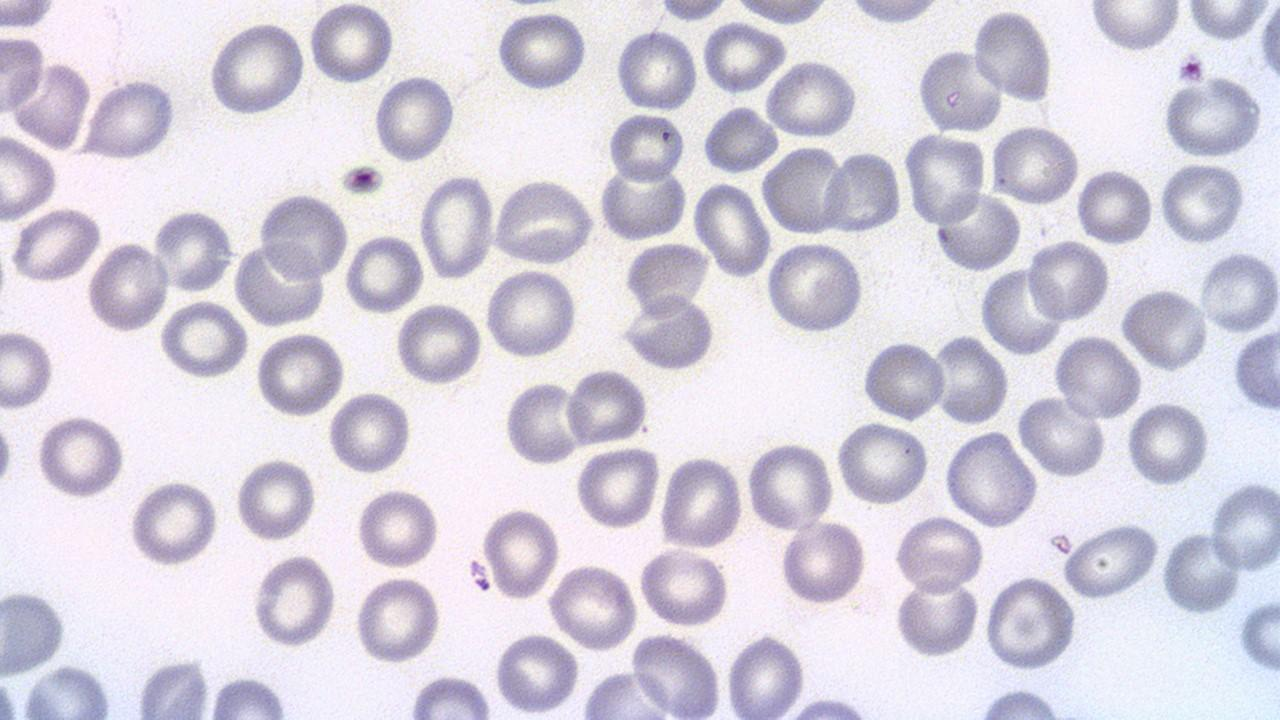Platelets: (341, 163, 386, 199), (0, 414, 17, 497)
RBC: (206, 17, 307, 118), (940, 429, 1040, 528), (764, 238, 864, 334), (1160, 73, 1268, 160), (492, 176, 597, 265), (482, 267, 580, 361), (984, 575, 1078, 672), (232, 236, 328, 329), (417, 172, 497, 281), (256, 192, 351, 282), (126, 478, 219, 569), (253, 329, 347, 419), (351, 574, 442, 666), (760, 142, 848, 237), (250, 552, 337, 648), (972, 5, 1054, 106), (690, 179, 772, 280), (915, 44, 1006, 135), (745, 439, 833, 533), (658, 453, 744, 549), (834, 422, 930, 508), (546, 562, 639, 650), (494, 7, 590, 92), (903, 129, 985, 228), (630, 630, 722, 718), (33, 414, 126, 501), (306, 0, 397, 88), (596, 156, 690, 241), (86, 240, 171, 334), (81, 79, 179, 160), (1060, 523, 1162, 600), (480, 504, 560, 602), (1053, 333, 1143, 420), (618, 293, 717, 372), (978, 264, 1063, 356), (371, 72, 455, 165), (637, 546, 731, 629), (930, 330, 1010, 427), (326, 388, 413, 477), (1118, 286, 1208, 372), (392, 302, 484, 386), (5, 206, 104, 284), (778, 519, 867, 605), (1015, 394, 1107, 477), (891, 574, 979, 660), (1156, 160, 1244, 246), (1125, 400, 1211, 488), (860, 336, 946, 424), (764, 58, 858, 138), (354, 485, 441, 571), (157, 299, 249, 380), (574, 445, 660, 531), (990, 123, 1080, 205), (932, 189, 1020, 272), (724, 630, 807, 718), (1160, 528, 1242, 617), (1026, 238, 1110, 324), (613, 26, 697, 112), (152, 207, 235, 294), (234, 456, 318, 541), (502, 378, 582, 467), (892, 514, 983, 592), (823, 146, 904, 233), (493, 632, 580, 713), (622, 240, 712, 318), (564, 366, 650, 446), (13, 63, 91, 151), (344, 232, 425, 316), (1199, 249, 1279, 334), (1209, 479, 1279, 574), (0, 585, 69, 680), (700, 19, 786, 95), (1074, 165, 1152, 247), (606, 109, 685, 182), (701, 104, 779, 172), (1087, 1, 1183, 56), (0, 131, 59, 220), (20, 662, 114, 715), (134, 658, 211, 718), (0, 328, 54, 410), (1231, 327, 1279, 413), (0, 33, 47, 118), (407, 674, 496, 718), (206, 674, 289, 718), (1185, 0, 1269, 43), (1236, 596, 1280, 676), (726, 0, 834, 26), (844, 0, 944, 26), (1255, 0, 1279, 88), (652, 0, 732, 23), (0, 0, 61, 30)
WBC: (616, 290, 718, 374)
